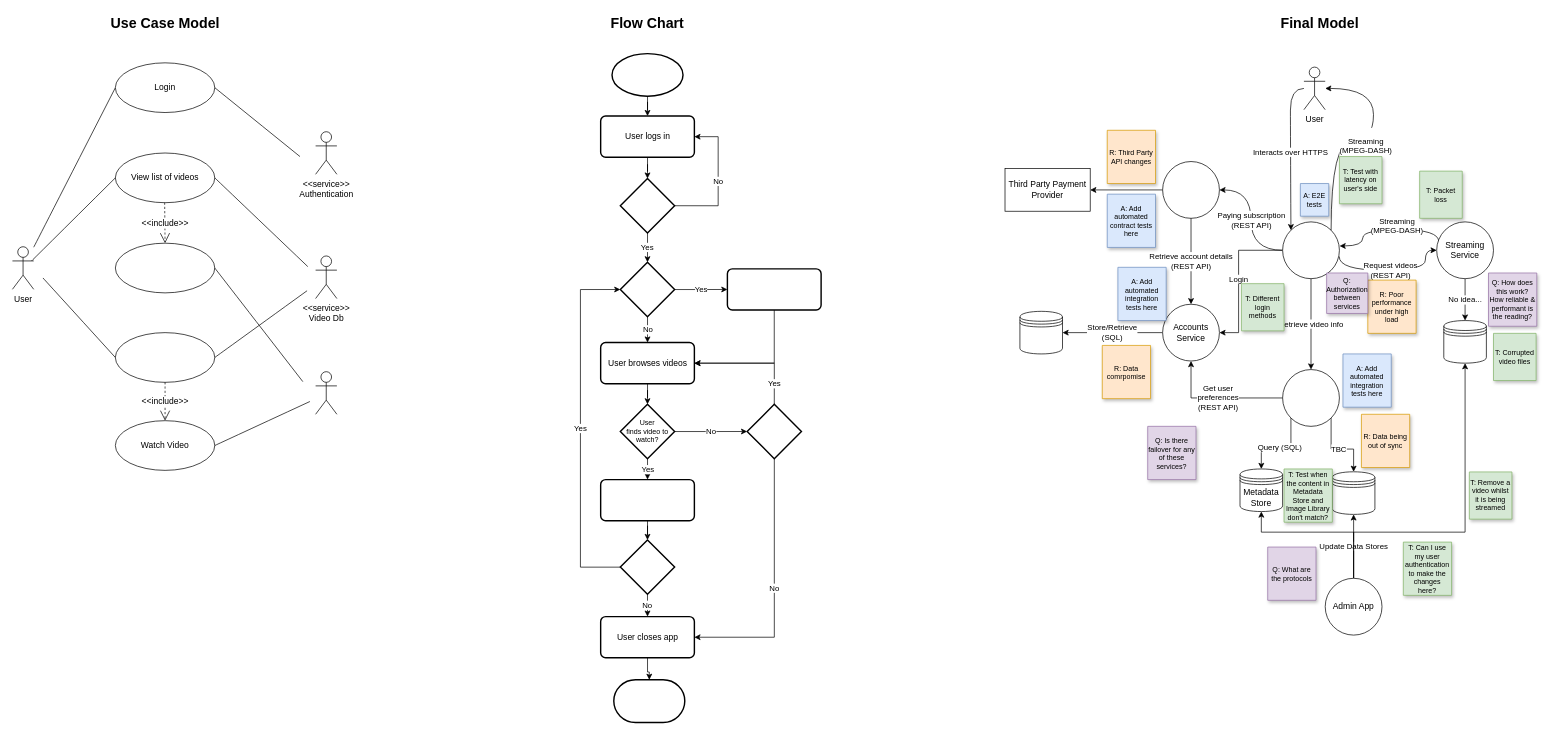
Some shapes in this 1553 by 735 pixel diagram are drawn without their labels. The centre of each missing label's shape, as x and y in pixels:
"<<service>> Streaming" belongs at point 326,392.
"Account DB" belongs at point 1041,332.
"End" belongs at point 649,701.
"Image Library" belongs at point 1353,492.
"Payment Service" belongs at point 1190,189.
"Preview Video" belongs at point 165,267.
"Select Video" belongs at point 165,357.
"Start" belongs at point 647,75.
"User filters the videos" belongs at point 773,289.
"User has preference?" belongs at point 647,289.
"User wants to keep looking?" belongs at point 774,431.
"User watches video" belongs at point 647,500.
"Valid login details" belongs at point 647,205.
"Video Metadata Service" belongs at point 1310,397.
"Video Store" belongs at point 1464,341.
"Watch another video?" belongs at point 647,567.
"Web App" belongs at point 1310,250.
